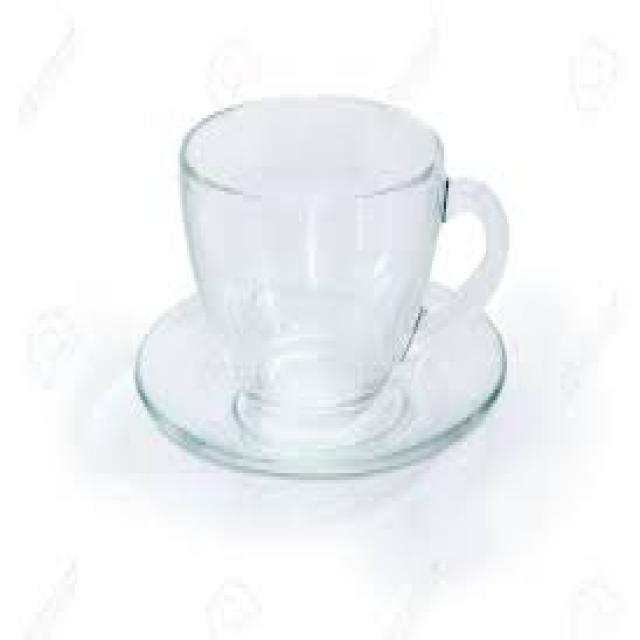taza: (156, 72, 514, 452)
